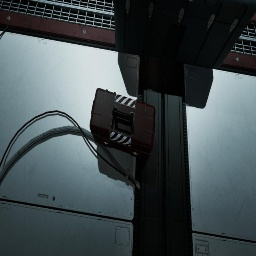FirstAidBox ,: (89, 88, 155, 160)
